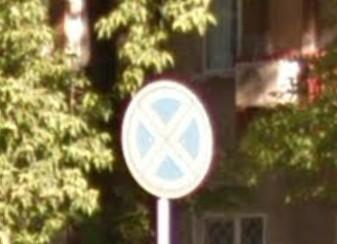No Parking: (121, 80, 215, 200)
